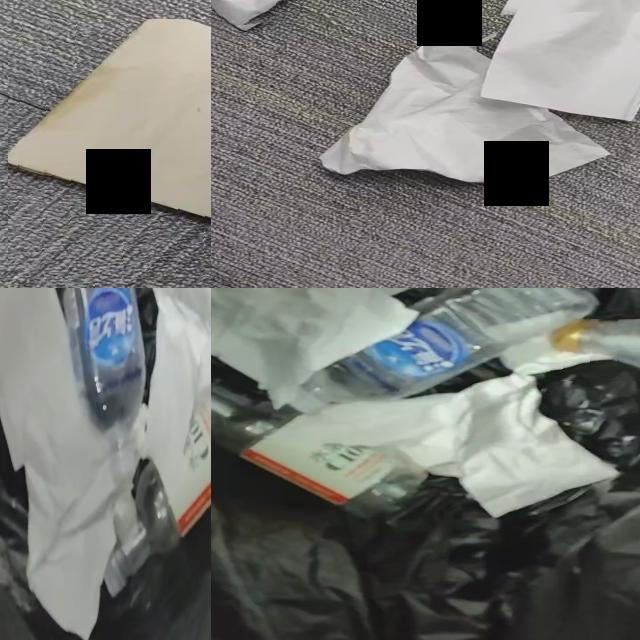bottle: (290, 288, 597, 412), (211, 380, 427, 512), (102, 386, 211, 597), (62, 288, 145, 484), (550, 319, 640, 369)
carton: (8, 19, 211, 219)
paper: (307, 374, 618, 518), (320, 34, 607, 184), (0, 288, 122, 640), (211, 288, 417, 408), (483, 0, 640, 121), (148, 288, 211, 511), (487, 310, 606, 375), (114, 475, 144, 554), (132, 404, 150, 458)
